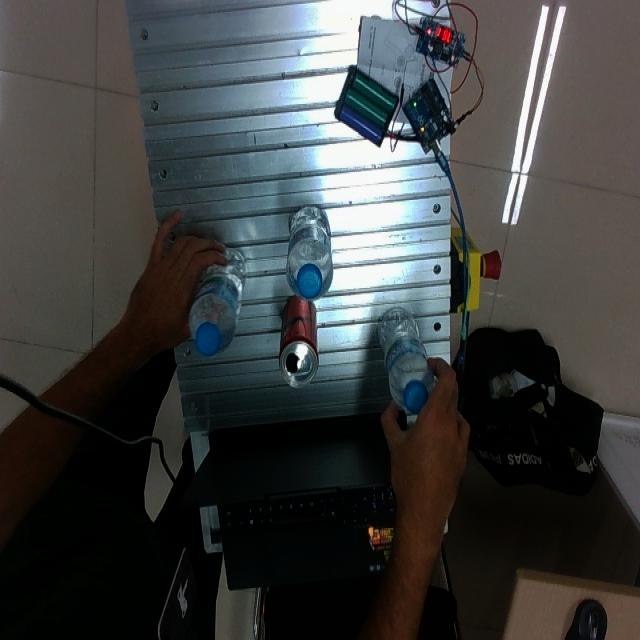coca: (279, 296, 319, 388)
lavie: (188, 248, 248, 357), (379, 307, 435, 413), (285, 207, 334, 301)
